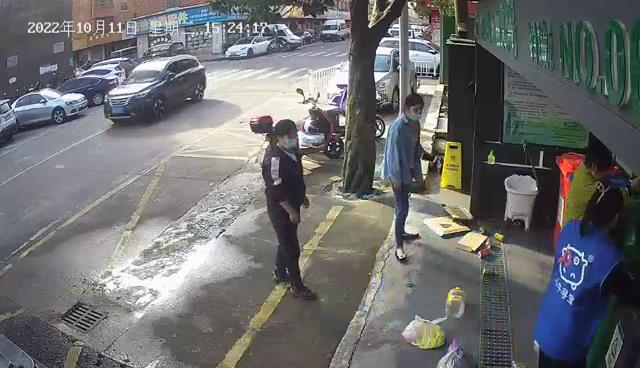garbage-bag: (401, 313, 450, 351), (436, 337, 467, 368)
lvzhipin: (478, 247, 494, 260), (482, 266, 497, 276), (494, 233, 505, 241)
person: (261, 118, 318, 301), (559, 140, 640, 231)
suliaozhipin: (444, 286, 466, 322)
worker: (530, 178, 640, 366), (379, 93, 439, 264)
zhizhipin: (420, 216, 471, 237), (457, 230, 489, 253), (444, 204, 475, 220)
